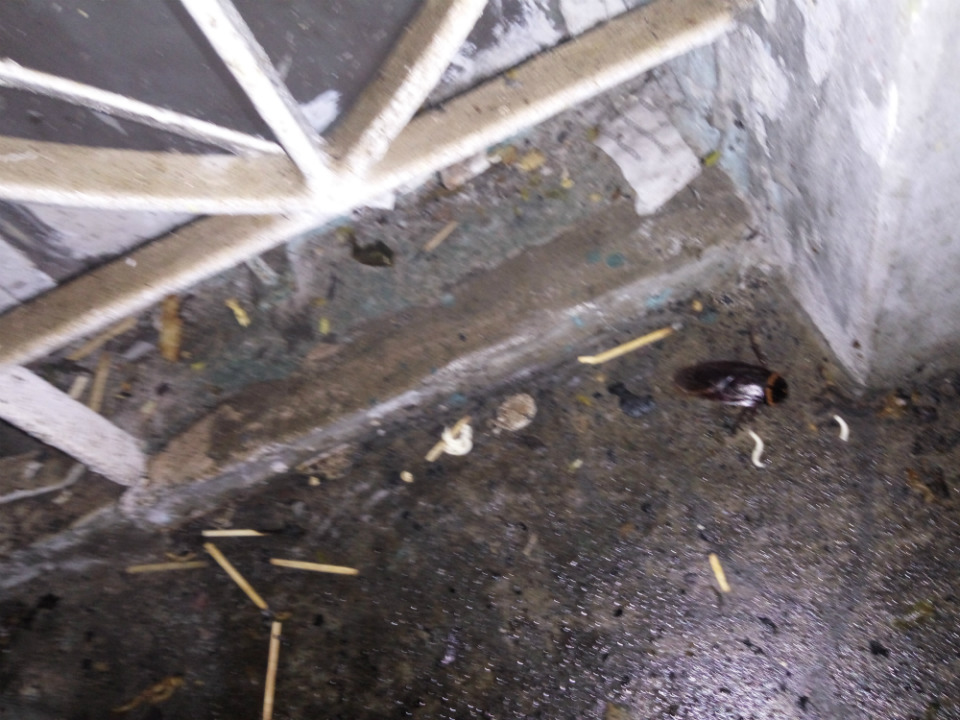cockroach: (606, 332, 834, 433)
